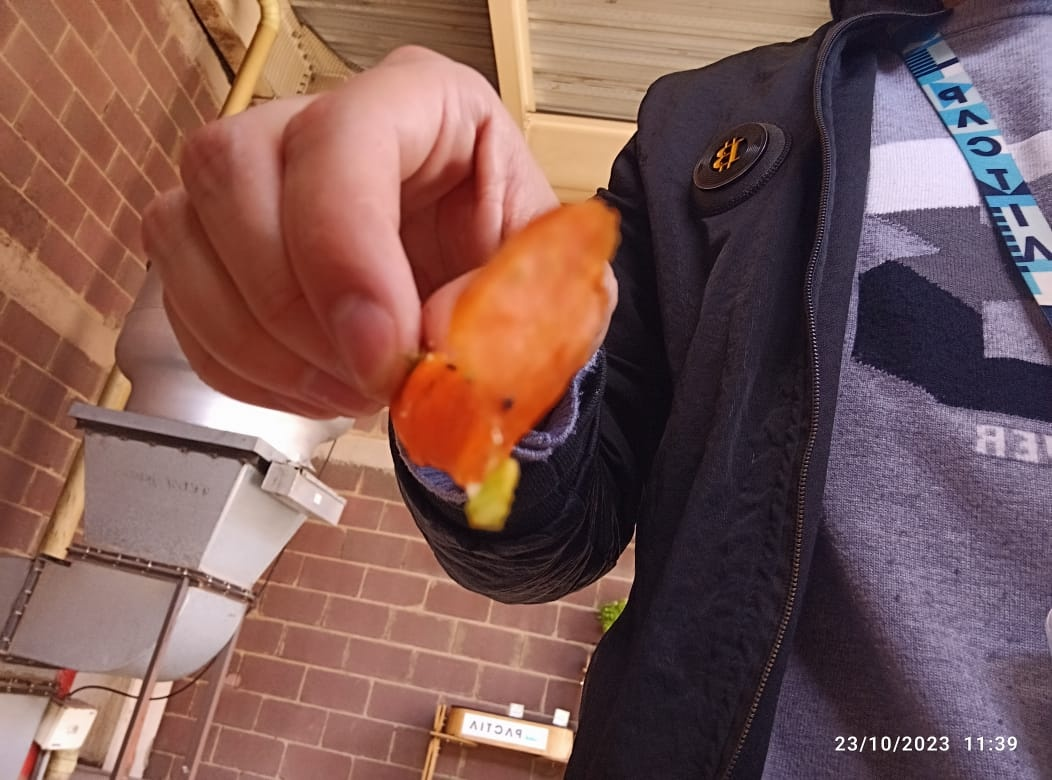Organico: (392, 197, 646, 528)
